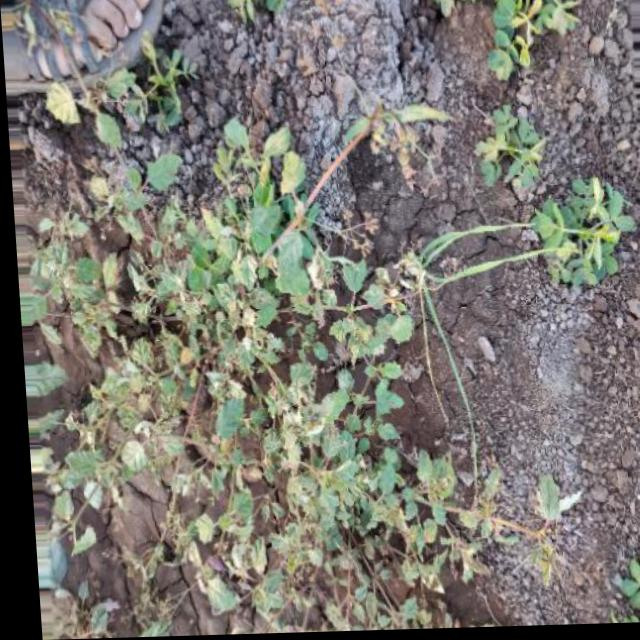weed: (26, 83, 538, 625)
